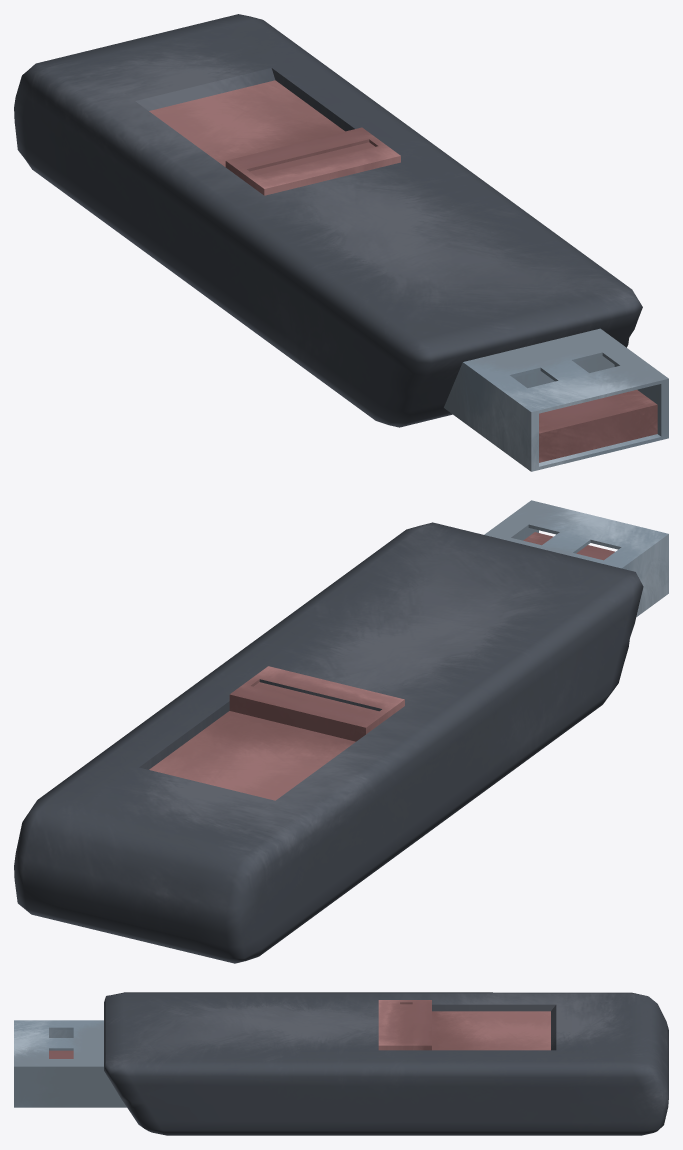
The model's file is USB_StickModel.fbx.
The picture shows the model from 3 angles, top to bottom: view 1: azimuth 30°, elevation 25°; view 2: azimuth 150°, elevation 25°; view 3: azimuth 270°, elevation 25°; orthographic projection. The views are drawn at different scales.
Parts seen in each view (by area): view 1: pCube12; view 2: pCube12; view 3: pCube12.
Part boxes in pixels (x1=…): pCube12: x1=14, y1=14, x2=668, y2=471; pCube12: x1=14, y1=500, x2=668, y2=963; pCube12: x1=14, y1=992, x2=668, y2=1135.
Size of the model in its own units: 2.34 by 1.06 by 8.26.
3 materials, 3 textured.
